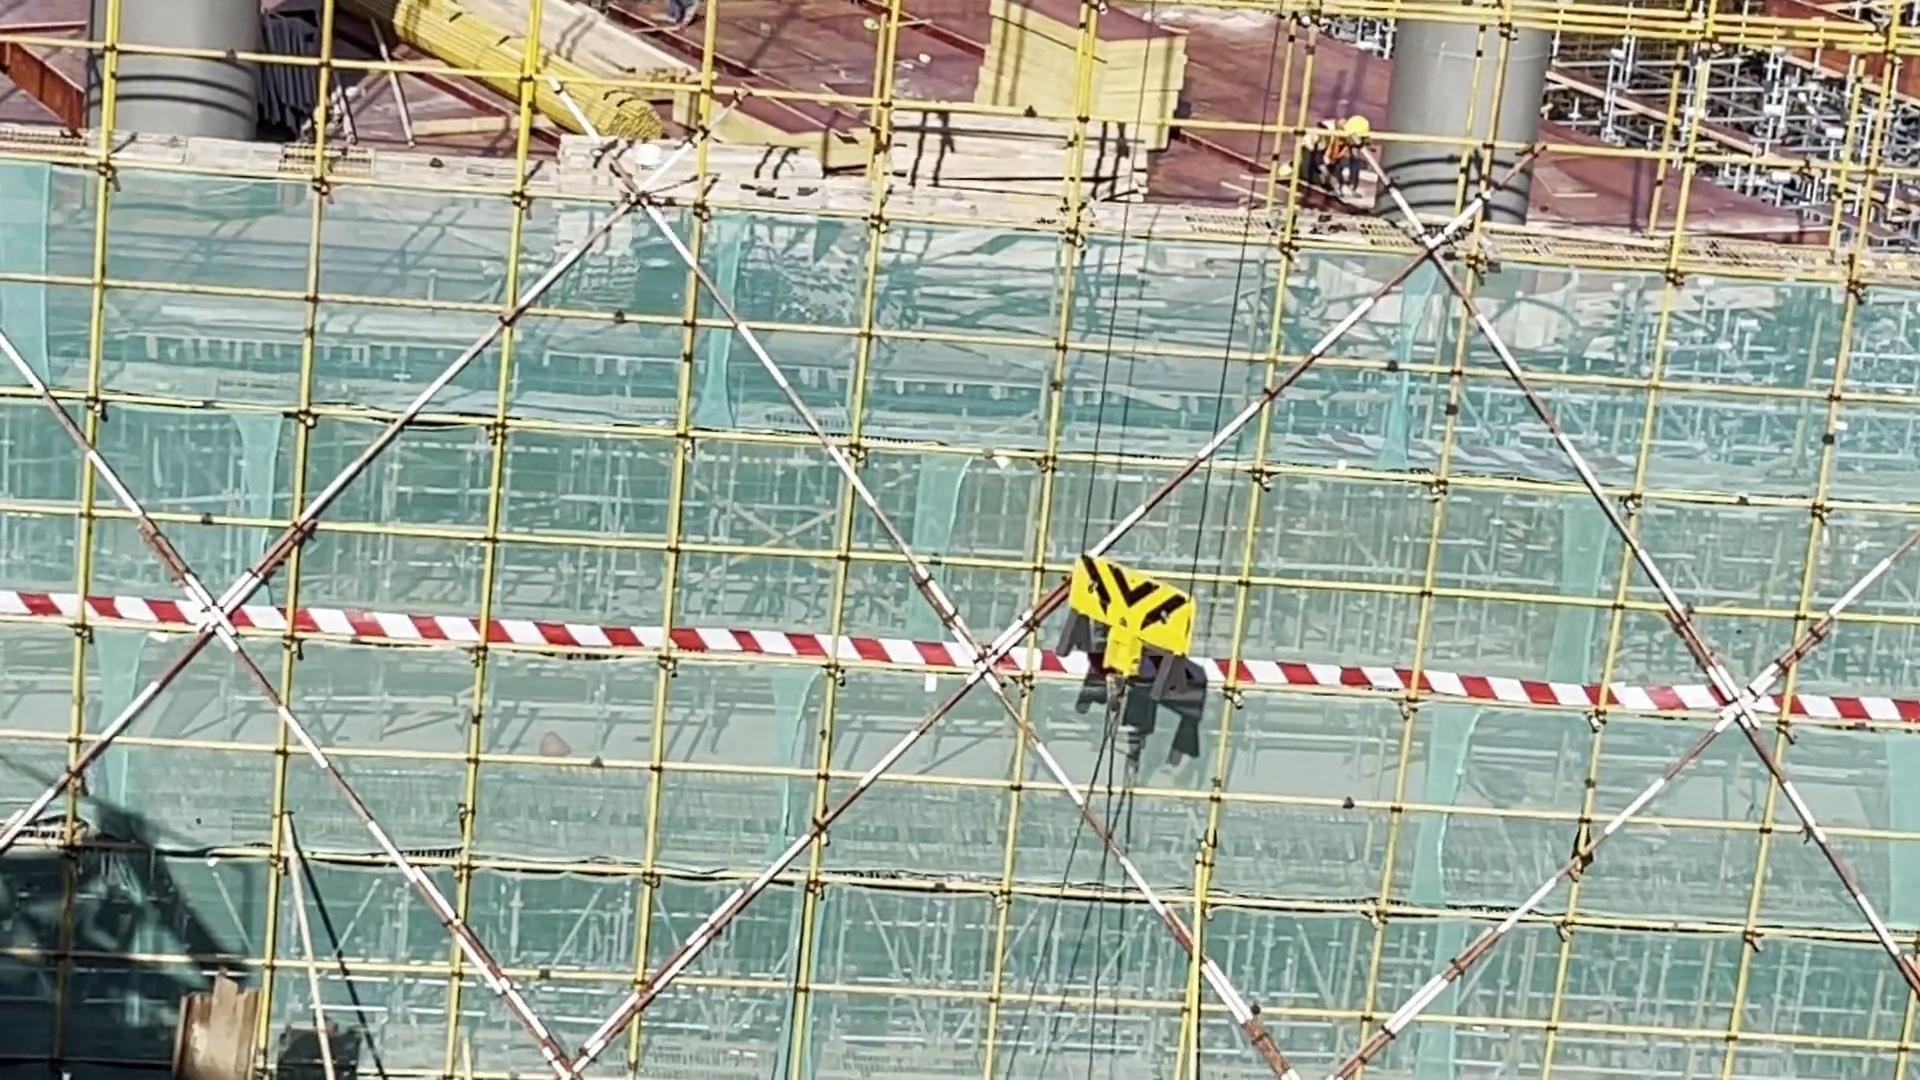board: (992, 1, 1181, 146)
hook: (1069, 561, 1193, 707)
person: (1286, 104, 1377, 204)
wood: (407, 1, 713, 160)
